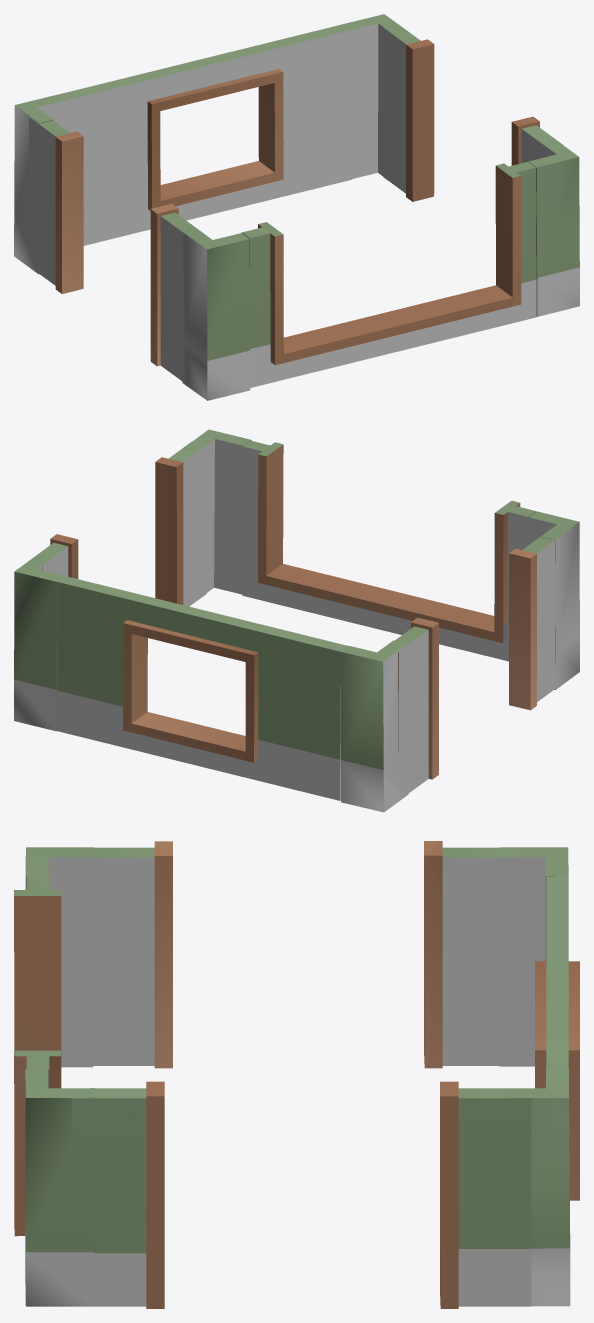
File: ENTRADA.fbx
3 renders of one model, top to bottom at view 1: azimuth 30°, elevation 25°; view 2: azimuth 150°, elevation 25°; view 3: azimuth 270°, elevation 25°, orthographic. The views are drawn at different scales.
Parts seen in each view (by area): view 1: paret_ventana4, paret_con_ventana_grande9, paret_esquina_43, paret_doblepuerta1, paret_con_borde5, paret_esquina15, paret_con_borde6, paret_esquina14, paret_esquina_42; view 2: paret_ventana4, paret_con_ventana_grande9, paret_esquina_42, paret_doblepuerta1, paret_con_borde6, paret_esquina14, paret_con_borde5, paret_esquina15, paret_esquina_43; view 3: paret_doblepuerta1, paret_con_borde6, paret_con_borde5, paret_esquina15, paret_con_ventana_grande9, paret_esquina14, paret_ventana4, paret_esquina_42, paret_esquina_43.
Part boxes in pixels (box(x1,y1,x2,y2)): paret_ventana4: box(58, 24, 352, 245); paret_con_ventana_grande9: box(241, 162, 536, 387); paret_esquina_43: box(182, 228, 250, 400); paret_doblepuerta1: box(383, 27, 562, 201); paret_con_borde5: box(29, 116, 83, 293); paret_esquina15: box(528, 139, 579, 316); paret_con_borde6: box(150, 204, 202, 387); paret_esquina14: box(344, 14, 408, 178); paret_esquina_42: box(14, 94, 65, 274); paret_ventana4: box(55, 575, 347, 800); paret_con_ventana_grande9: box(242, 440, 536, 661); paret_esquina_42: box(340, 640, 408, 812); paret_doblepuerta1: box(39, 441, 206, 606); paret_con_borde6: box(509, 533, 555, 710); paret_esquina14: box(14, 553, 62, 731); paret_con_borde5: box(395, 617, 438, 792); paret_esquina15: box(184, 429, 251, 594); paret_esquina_43: box(528, 511, 579, 689); paret_doblepuerta1: box(72, 1081, 531, 1308); paret_con_borde6: box(70, 841, 172, 1068); paret_con_borde5: box(424, 841, 526, 1068); paret_esquina15: box(25, 1069, 94, 1306); paret_con_ventana_grande9: box(14, 876, 61, 1236); paret_esquina14: box(500, 1069, 570, 1306); paret_ventana4: box(535, 876, 579, 1200); paret_esquina_42: box(499, 847, 568, 1066); paret_esquina_43: box(25, 847, 94, 1067).
Bounding box in the file's own units: 878 × 345 × 814.
